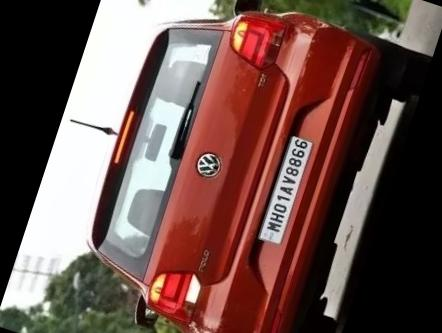plate: (244, 119, 333, 254)
